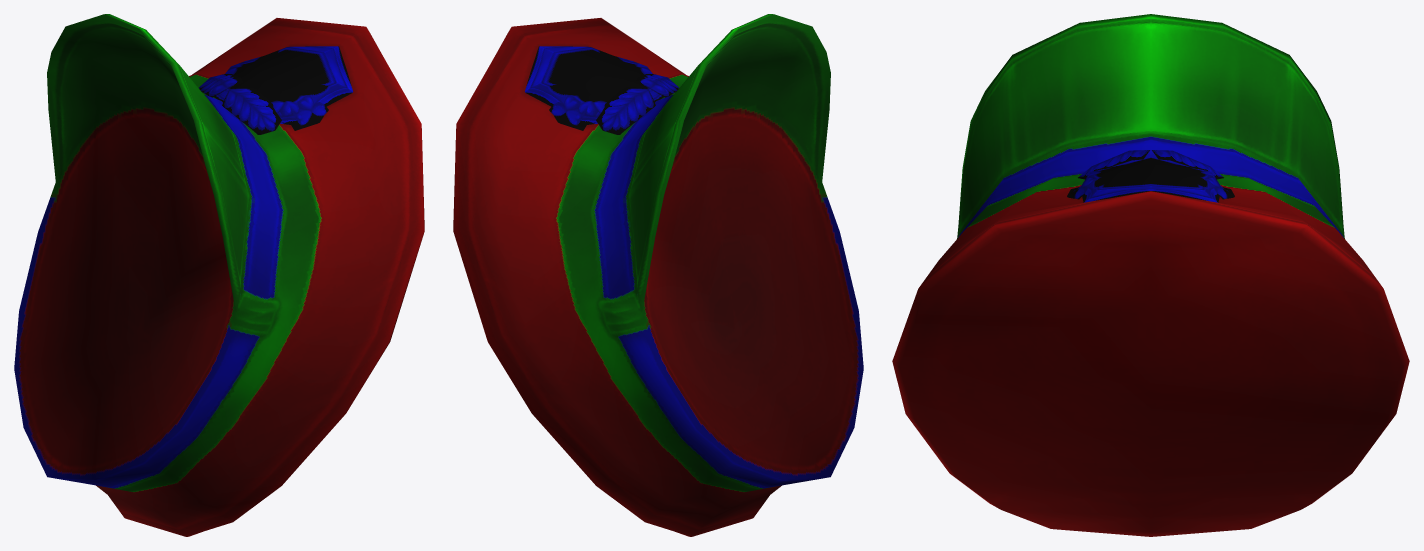
The picture shows the model from 3 angles, left to right: view 1: azimuth 30°, elevation 25°; view 2: azimuth 150°, elevation 25°; view 3: azimuth 270°, elevation 25°; orthographic projection. The views are drawn at different scales.
Visible parts, largest first — view 1: C1150; view 2: C1150; view 3: C1150.
Part boxes in pixels (bbox=[...]): C1150: bbox=[14, 14, 424, 536]; C1150: bbox=[453, 14, 863, 536]; C1150: bbox=[892, 14, 1409, 536].
Size of the model in its own units: 0.4464 by 0.6458 by 0.5743.
